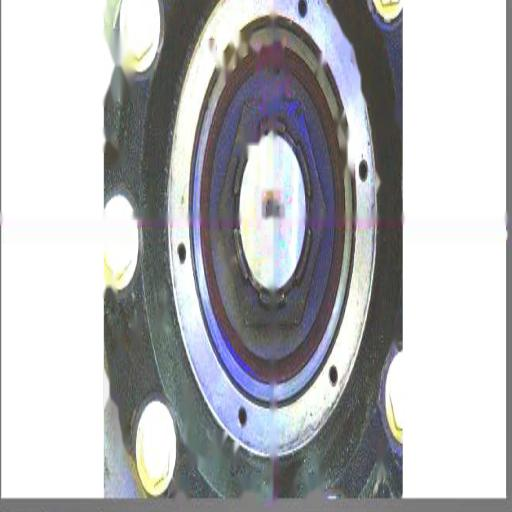center: (261, 188, 282, 224)
notch: (268, 64, 286, 88)
